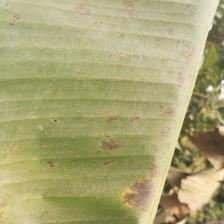pestalotiopsis: (0, 0, 216, 224)
